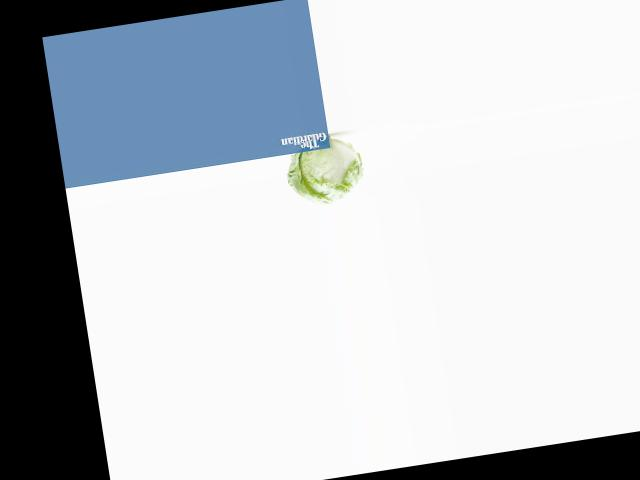lettuce: (284, 134, 367, 212)
